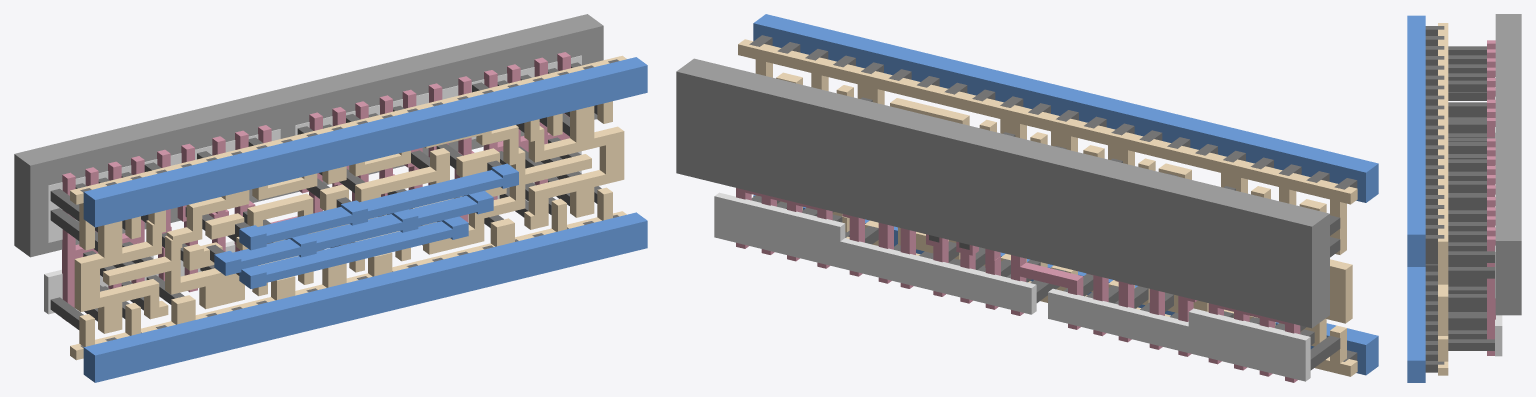
The model's file is sky130_fd_sc_hd__fa_4.gds.gltf.
3 views of the same model, side by side, from view 1: azimuth 30°, elevation 25°; view 2: azimuth 150°, elevation 25°; view 3: azimuth 270°, elevation 25° (orthographic). The views are drawn at different scales.
Visible parts, largest first — view 1: sky130_fd_sc_hd__fa_4_met1, sky130_fd_sc_hd__fa_4_li1, sky130_fd_sc_hd__fa_4_nwell, sky130_fd_sc_hd__fa_4_poly, sky130_fd_sc_hd__fa_4_licon, sky130_fd_sc_hd__fa_4_diff, sky130_fd_sc_hd__fa_4_mcon; view 2: sky130_fd_sc_hd__fa_4_nwell, sky130_fd_sc_hd__fa_4_diff, sky130_fd_sc_hd__fa_4_li1, sky130_fd_sc_hd__fa_4_met1, sky130_fd_sc_hd__fa_4_poly, sky130_fd_sc_hd__fa_4_mcon, sky130_fd_sc_hd__fa_4_licon; view 3: sky130_fd_sc_hd__fa_4_licon, sky130_fd_sc_hd__fa_4_nwell, sky130_fd_sc_hd__fa_4_met1, sky130_fd_sc_hd__fa_4_mcon, sky130_fd_sc_hd__fa_4_li1, sky130_fd_sc_hd__fa_4_poly, sky130_fd_sc_hd__fa_4_diff.
Boxes of the visible parts, x1=… form: sky130_fd_sc_hd__fa_4_met1: x1=83, y1=57, x2=647, y2=382; sky130_fd_sc_hd__fa_4_li1: x1=70, y1=55, x2=626, y2=360; sky130_fd_sc_hd__fa_4_nwell: x1=14, y1=14, x2=603, y2=257; sky130_fd_sc_hd__fa_4_poly: x1=62, y1=52, x2=570, y2=321; sky130_fd_sc_hd__fa_4_licon: x1=50, y1=62, x2=601, y2=329; sky130_fd_sc_hd__fa_4_diff: x1=44, y1=55, x2=581, y2=314; sky130_fd_sc_hd__fa_4_mcon: x1=80, y1=59, x2=618, y2=347; sky130_fd_sc_hd__fa_4_nwell: x1=676, y1=58, x2=1329, y2=328; sky130_fd_sc_hd__fa_4_diff: x1=714, y1=192, x2=1310, y2=381; sky130_fd_sc_hd__fa_4_li1: x1=738, y1=39, x2=1357, y2=376; sky130_fd_sc_hd__fa_4_met1: x1=753, y1=14, x2=1378, y2=375; sky130_fd_sc_hd__fa_4_poly: x1=736, y1=188, x2=1300, y2=382; sky130_fd_sc_hd__fa_4_mcon: x1=749, y1=35, x2=1357, y2=361; sky130_fd_sc_hd__fa_4_licon: x1=751, y1=97, x2=1340, y2=370; sky130_fd_sc_hd__fa_4_licon: x1=1448, y1=46, x2=1494, y2=350; sky130_fd_sc_hd__fa_4_nwell: x1=1495, y1=14, x2=1521, y2=315; sky130_fd_sc_hd__fa_4_met1: x1=1407, y1=15, x2=1425, y2=382; sky130_fd_sc_hd__fa_4_mcon: x1=1425, y1=26, x2=1444, y2=372; sky130_fd_sc_hd__fa_4_li1: x1=1438, y1=23, x2=1448, y2=375; sky130_fd_sc_hd__fa_4_poly: x1=1487, y1=40, x2=1495, y2=355; sky130_fd_sc_hd__fa_4_diff: x1=1495, y1=77, x2=1502, y2=356.
Bounding box in the file's own units: 10.5 × 3.2 × 2.24.
